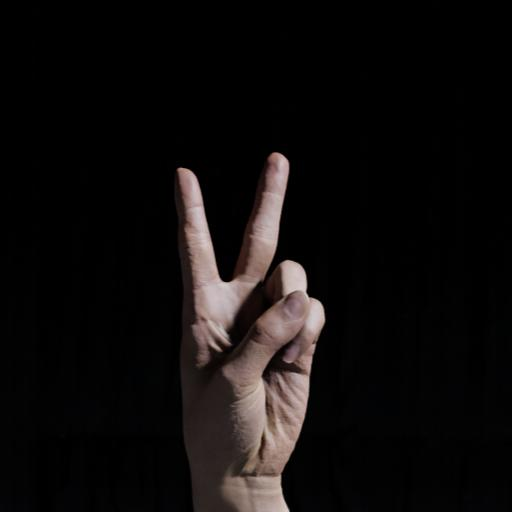V: (162, 133, 346, 512)
